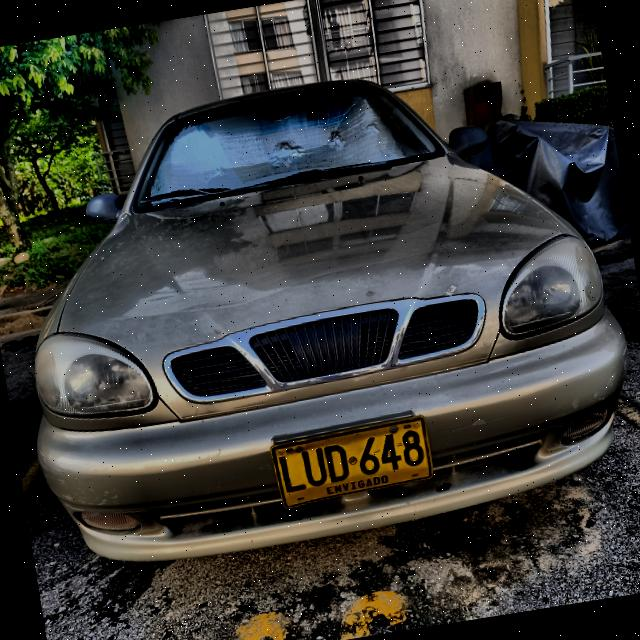4: (377, 432, 404, 472)
6: (355, 436, 382, 477)
8: (399, 428, 427, 468)
D: (324, 442, 351, 484)
L: (277, 453, 309, 495)
U: (300, 447, 330, 489)
